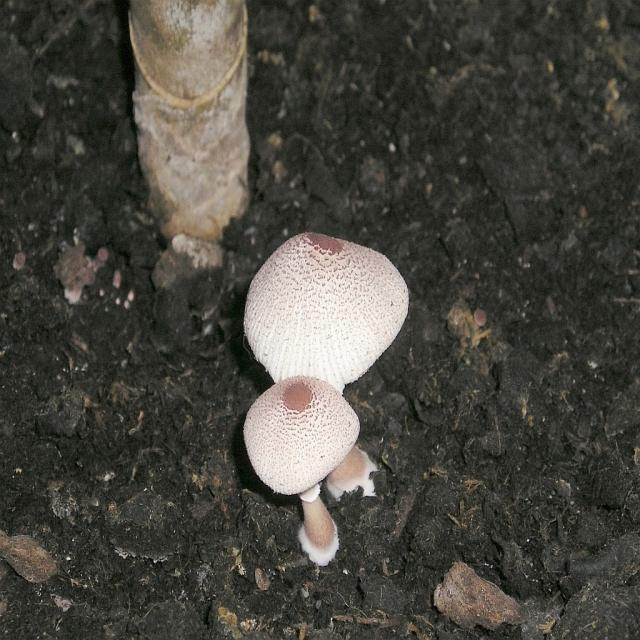Mushroom: (241, 234, 408, 503), (243, 372, 359, 570)
